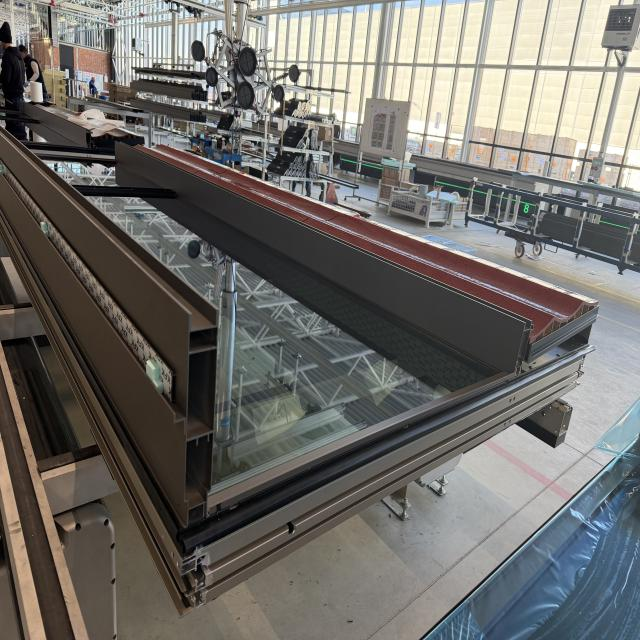ok: (0, 125, 598, 620)
